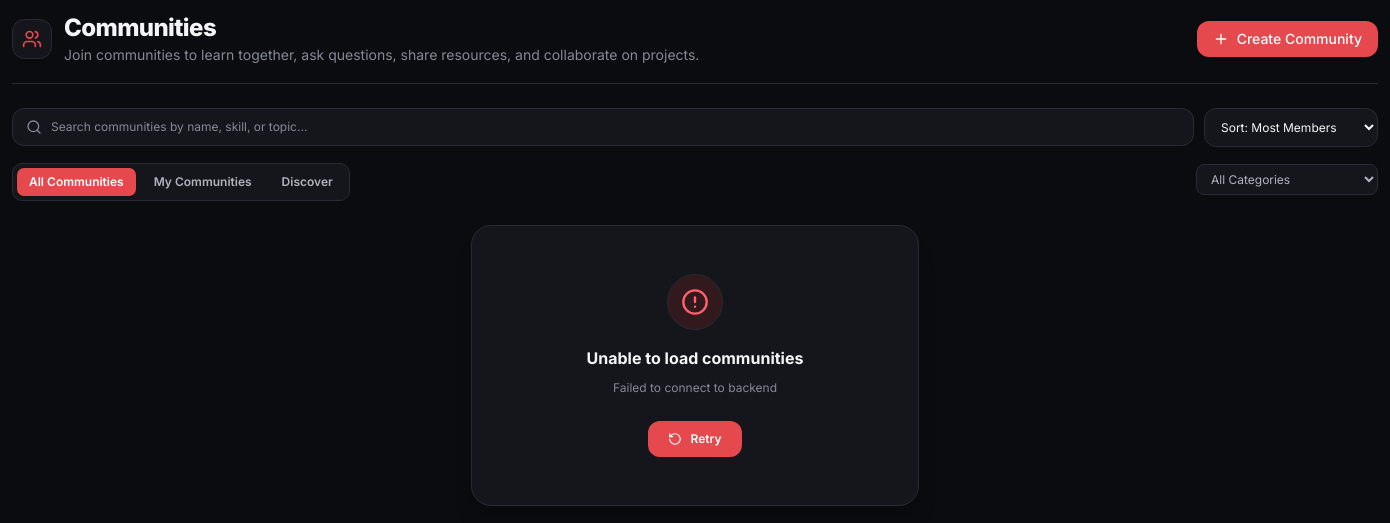
it: Communities Feature - Service & Integration Tests › 2. CommunitiesPage Component Tests › displays error state with a working Retry button when backend query fails
This screenshot has width=1390, height=523.
expect the text "Failed to connect to backend" is shown: met, box [613,378,777,397]
What coordinates should you click on to do the following:
click the button "Retry"
I would click on:
 (695, 439)
Its box is [648,421,742,457].
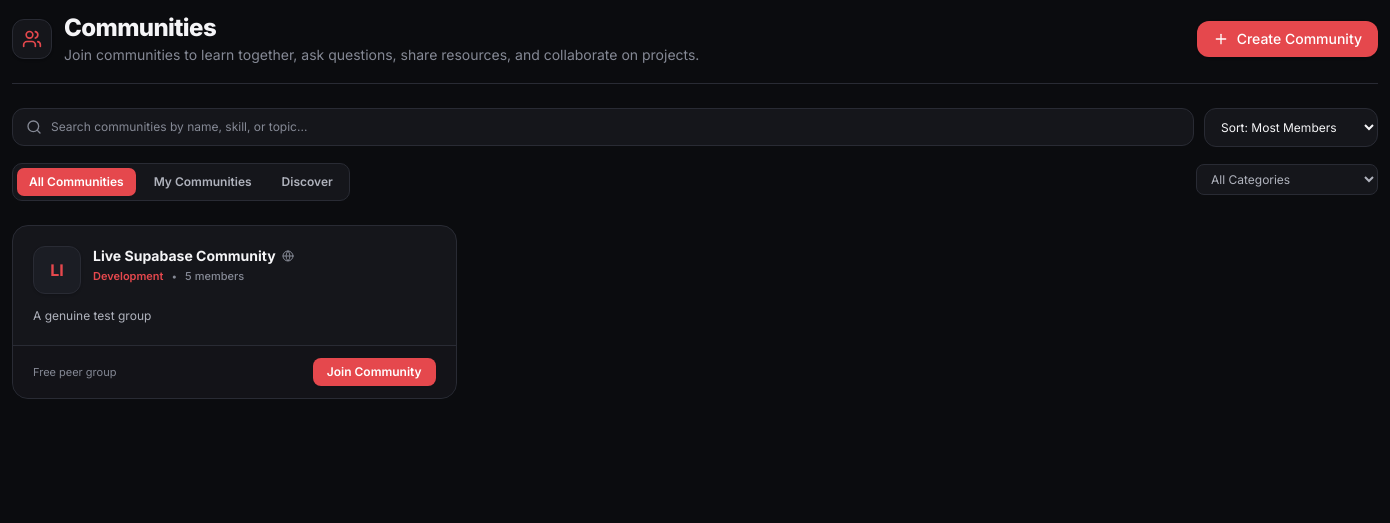
expect the heading "Live Supabase Community" is shown: met, box [93,246,276,266]
